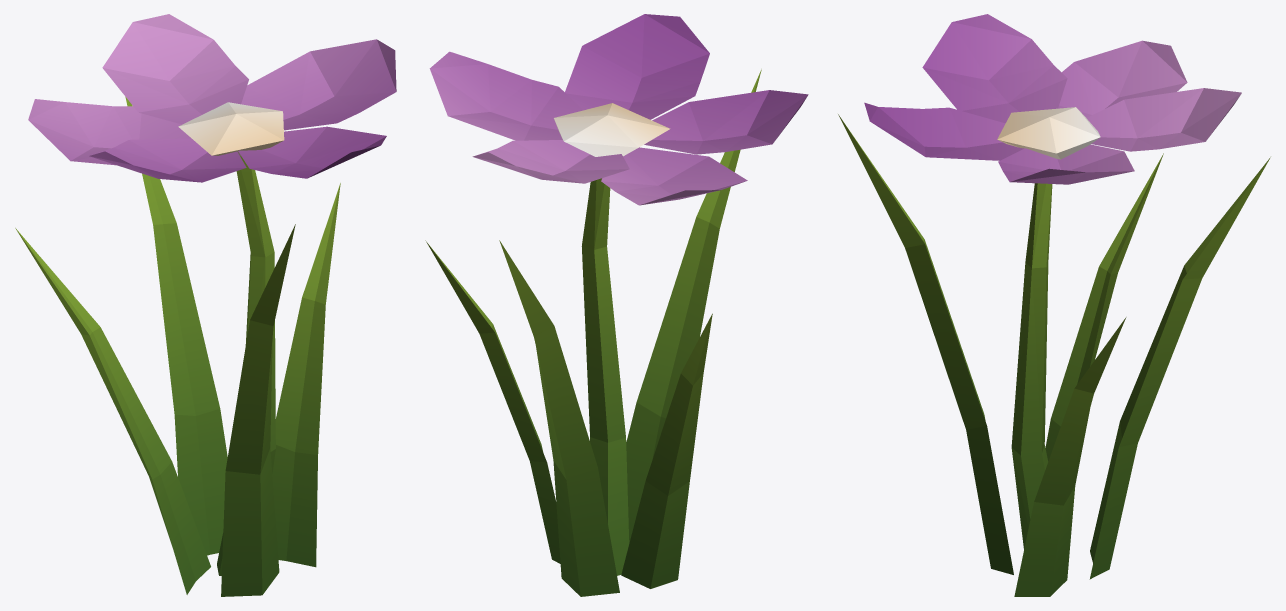
File: Flower_03.fbx
3 renders of one model, left to right at view 1: azimuth 30°, elevation 25°; view 2: azimuth 150°, elevation 25°; view 3: azimuth 270°, elevation 25°, orthographic.
Parts seen in each view (by area): view 1: Flower_03; view 2: Flower_03; view 3: Flower_03.
Boxes of the visible parts, x1,y1,x2,y2 form: Flower_03: [15, 14, 396, 596]; Flower_03: [425, 14, 808, 596]; Flower_03: [838, 14, 1270, 596].
Size of the model in its own units: 0.2775 by 0.3981 by 0.3268.
